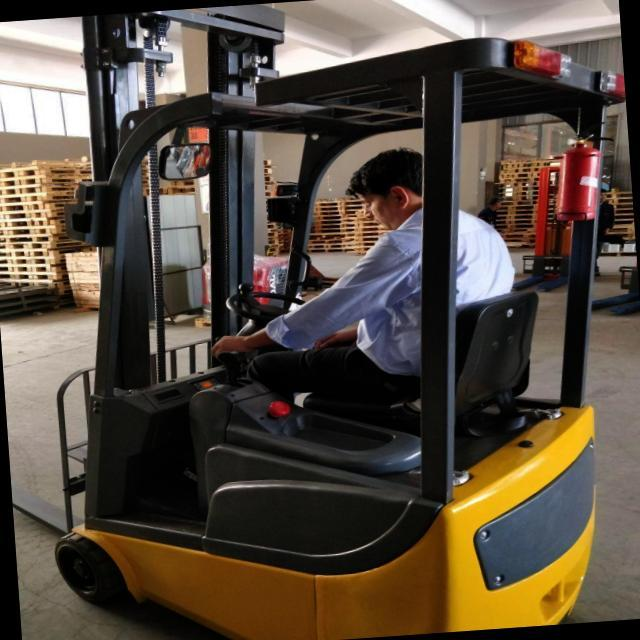driver: (202, 142, 524, 406)
forklift: (9, 15, 628, 640)
